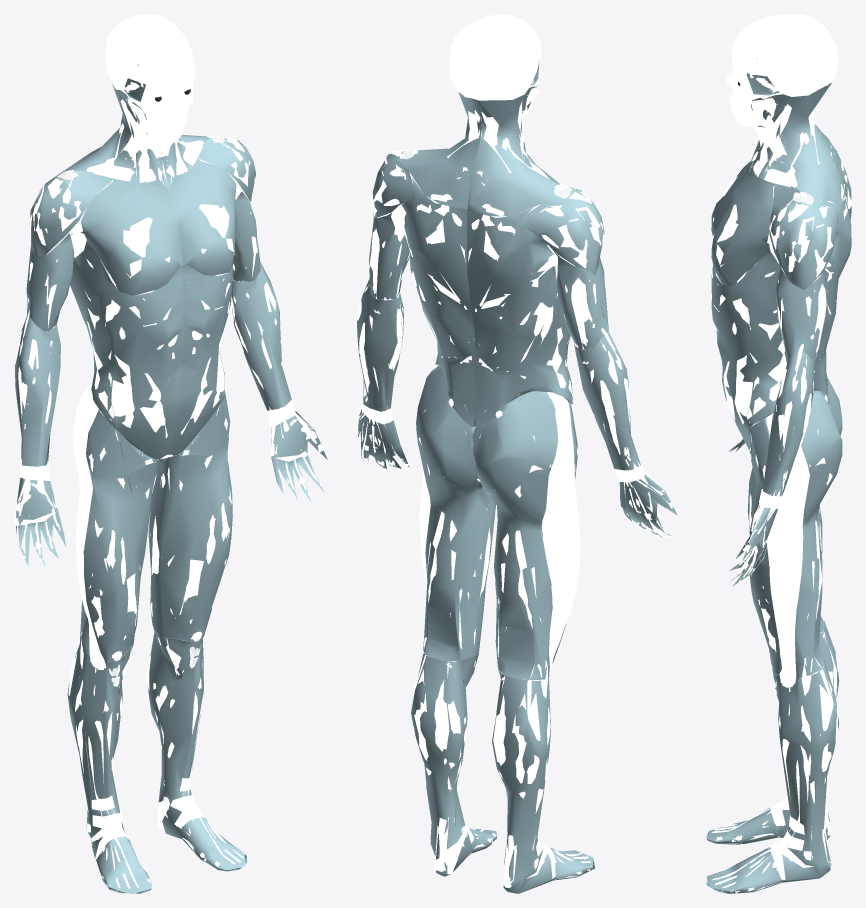
The model's file is linfatico.glb.
3 views of the same model, side by side, from view 1: azimuth 30°, elevation 25°; view 2: azimuth 150°, elevation 25°; view 3: azimuth 270°, elevation 25° (orthographic). The views are drawn at different scales.
Parts seen in each view (by area): view 1: Fascia lata.l, Investing abdominal fascia.r, Fascia lata.r, Crural fascia.l, Crural fascia.r, Pectoral fascia.r, Investing abdominal fascia.l, Pectoral fascia.l, Antebrachial fascia.r, Antebrachial fascia.l, Deltoid fascia.r, Iliotibial tract.r (+18 smaller); view 2: Investing abdominal fascia.r, Fascia lata.r, Fascia lata.l, Investing abdominal fascia.l, Crural fascia.r, Crural fascia.l, Superficial investing cervical fascia.r, Iliotibial tract.r, Antebrachial fascia.r, Antebrachial fascia.l, Superficial investing cervical fascia.l, Deltoid fascia.r (+21 smaller); view 3: Investing abdominal fascia.l, Crural fascia.l, Fascia lata.l, Iliotibial tract.l, Superficial investing cervical fascia.l, Pectoral fascia.l, Deltoid fascia.l, Antebrachial fascia.l, Epicranial aponeurosis.l, Brachial fascia.l, External abdominal oblique muscle.l, Crural fascia.r (+22 smaller).
Part boxes in pixels (x1=…): Fascia lata.l: x1=148, y1=392, x2=232, y2=641; Investing abdominal fascia.r: x1=70, y1=240, x2=184, y2=459; Fascia lata.r: x1=79, y1=409, x2=162, y2=662; Crural fascia.l: x1=147, y1=627, x2=246, y2=871; Crural fascia.r: x1=67, y1=644, x2=151, y2=893; Pectoral fascia.r: x1=80, y1=179, x2=182, y2=295; Investing abdominal fascia.l: x1=168, y1=264, x2=232, y2=454; Pectoral fascia.l: x1=167, y1=158, x2=236, y2=275; Antebrachial fascia.r: x1=14, y1=316, x2=60, y2=466; Antebrachial fascia.l: x1=231, y1=262, x2=291, y2=410; Deltoid fascia.r: x1=30, y1=170, x2=112, y2=257; Iliotibial tract.r: x1=72, y1=381, x2=108, y2=669; Investing abdominal fascia.r: x1=467, y1=207, x2=572, y2=428; Fascia lata.r: x1=472, y1=391, x2=577, y2=680; Fascia lata.l: x1=416, y1=365, x2=495, y2=660; Investing abdominal fascia.l: x1=400, y1=178, x2=475, y2=427; Crural fascia.r: x1=492, y1=669, x2=594, y2=893; Crural fascia.l: x1=411, y1=653, x2=497, y2=876; Superficial investing cervical fascia.r: x1=467, y1=87, x2=569, y2=216; Iliotibial tract.r: x1=541, y1=392, x2=580, y2=679; Antebrachial fascia.r: x1=574, y1=331, x2=640, y2=470; Antebrachial fascia.l: x1=357, y1=279, x2=403, y2=411; Superficial investing cervical fascia.l: x1=397, y1=92, x2=481, y2=209; Deltoid fascia.r: x1=520, y1=174, x2=604, y2=275; Investing abdominal fascia.l: x1=711, y1=198, x2=851, y2=450; Crural fascia.l: x1=706, y1=659, x2=839, y2=893; Fascia lata.l: x1=749, y1=390, x2=842, y2=677; Iliotibial tract.l: x1=766, y1=413, x2=809, y2=687; Superficial investing cervical fascia.l: x1=750, y1=83, x2=845, y2=206; Pectoral fascia.l: x1=711, y1=171, x2=774, y2=286; Deltoid fascia.l: x1=769, y1=184, x2=840, y2=289; Antebrachial fascia.l: x1=763, y1=350, x2=817, y2=496; Epicranial aponeurosis.l: x1=736, y1=18, x2=838, y2=77; Brachial fascia.l: x1=775, y1=262, x2=827, y2=359; External abdominal oblique muscle.l: x1=713, y1=273, x2=786, y2=424; Crural fascia.r: x1=706, y1=621, x2=839, y2=844.
Size of the model in its own units: 0.6662 by 1.7 by 0.2662.
